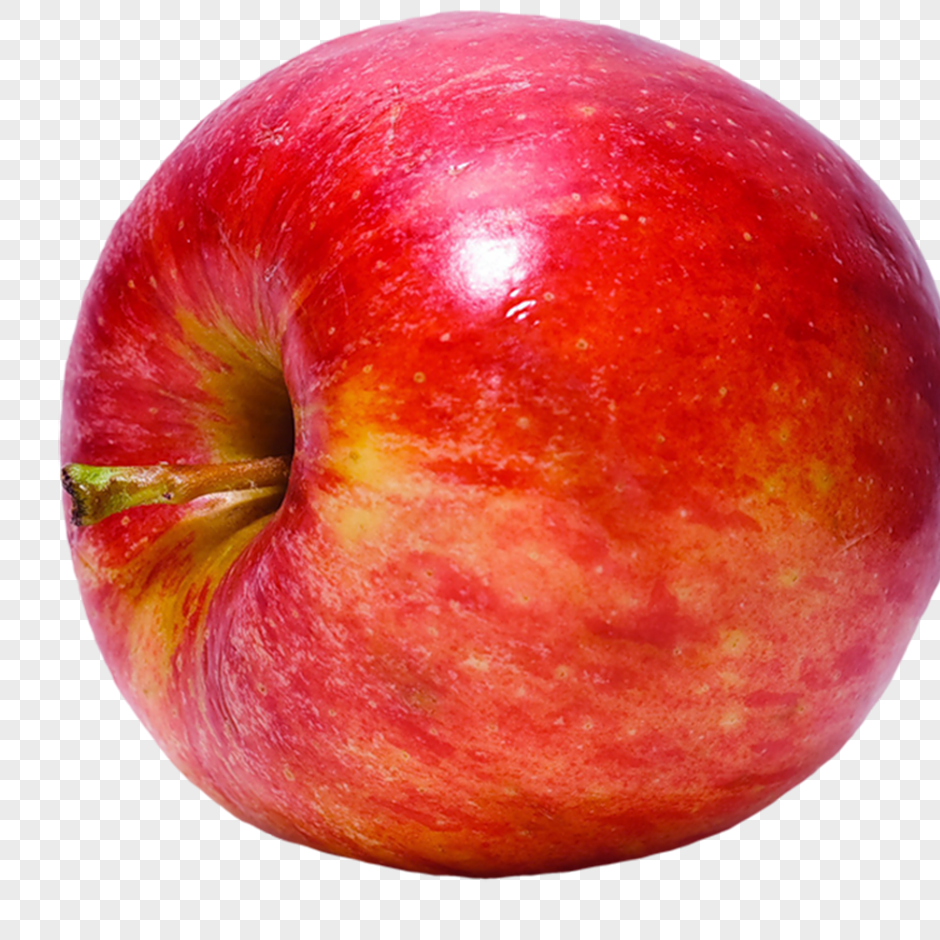apple: (54, 16, 940, 872)
